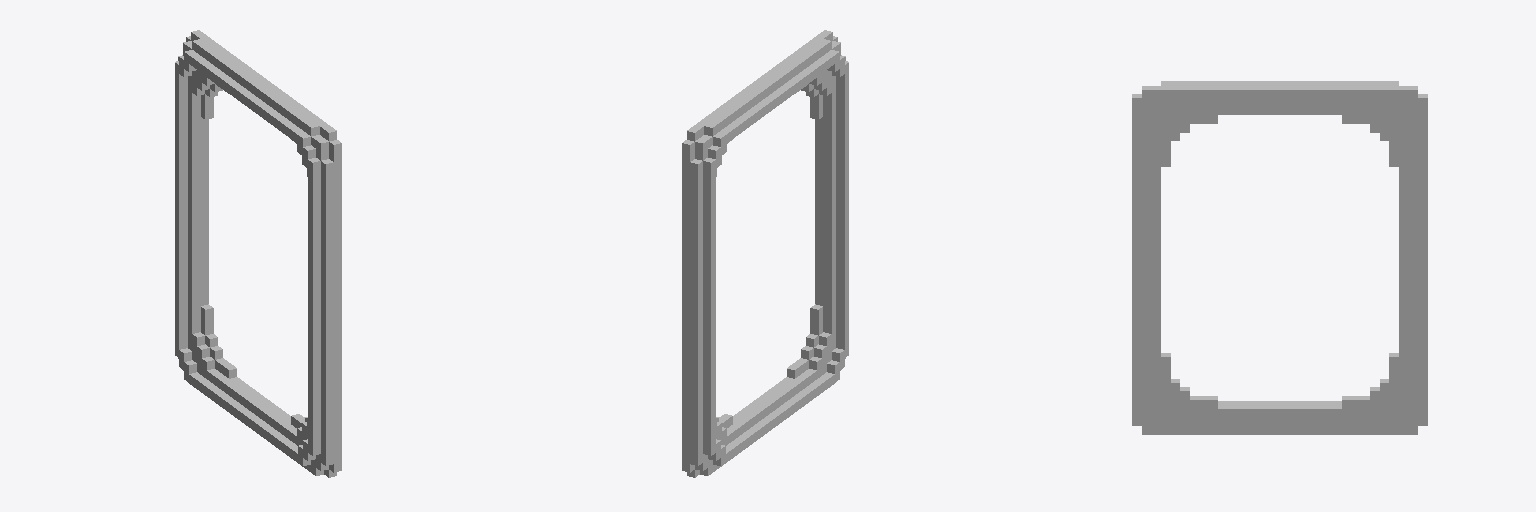
File: frame.obj
3 renders of one model, left to right at view 1: azimuth 30°, elevation 25°; view 2: azimuth 150°, elevation 25°; view 3: azimuth 270°, elevation 25°, orthographic.
Parts seen in each view (by area): view 1: object 1; view 2: object 1; view 3: object 1.
Part boxes in pixels (bbox=[...]): object 1: bbox=[175, 30, 341, 477]; object 1: bbox=[682, 30, 848, 477]; object 1: bbox=[1132, 81, 1427, 434].
Bounding box in the file's own units: 0.3 × 4 × 3.1.